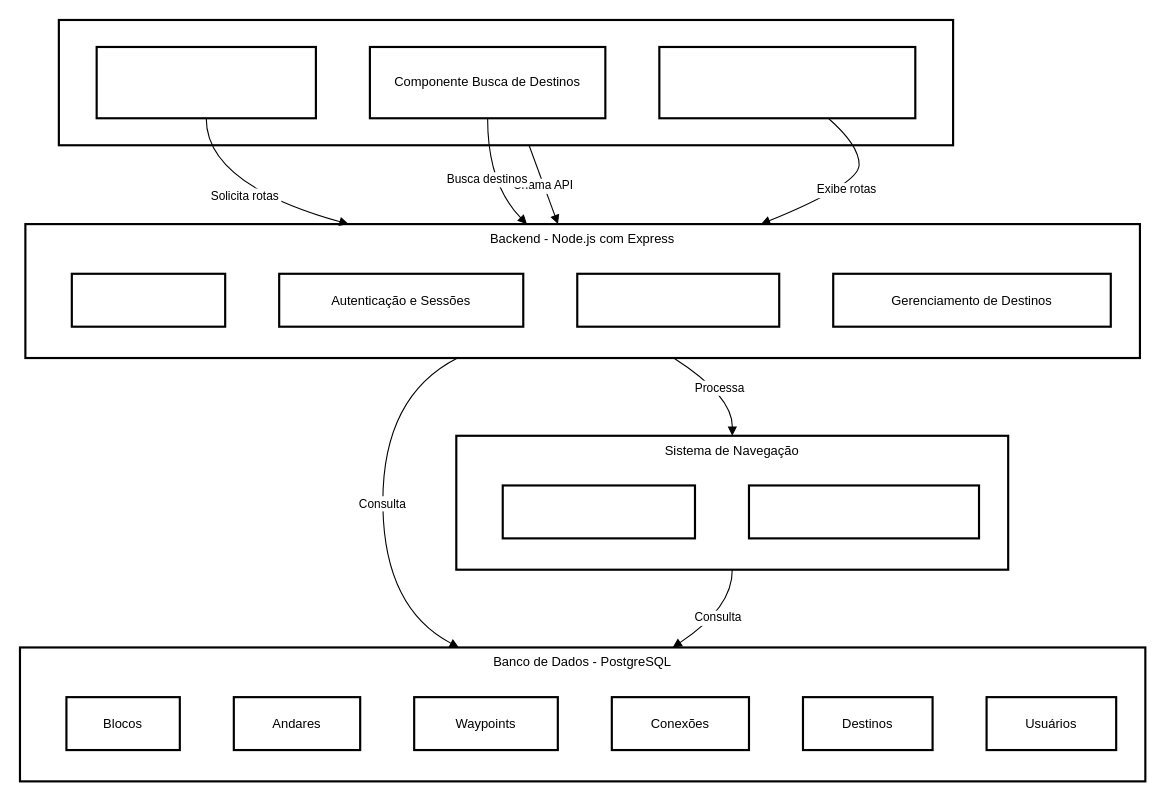
This 1164x800 diagram has some shape labels left out. Here are the shapes that lost their labels. From the top down, the centre of each, then its label:
At point (205, 82): "Componente Mapa - OpenStreetMap".
At point (787, 82): "Componente Exibição de Rota".
At point (148, 299): "API RESTful".
At point (678, 299): "Controle de Rotas".
At point (598, 511): "Cálculo de Rotas".
At point (863, 511): "Algoritmo de Dijkstra".
